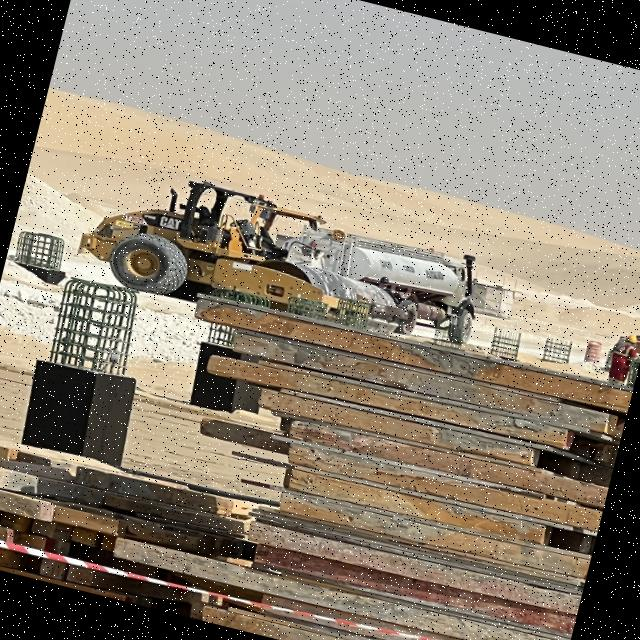Roller: (70, 150, 420, 352)
